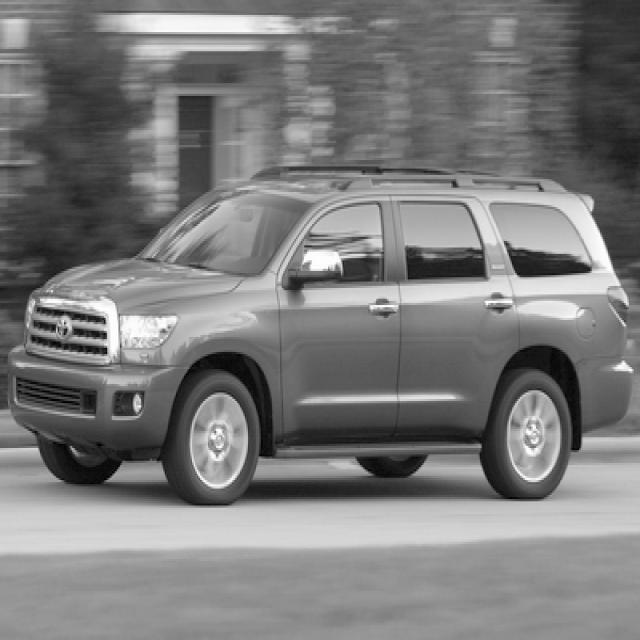car: (6, 162, 634, 506)
